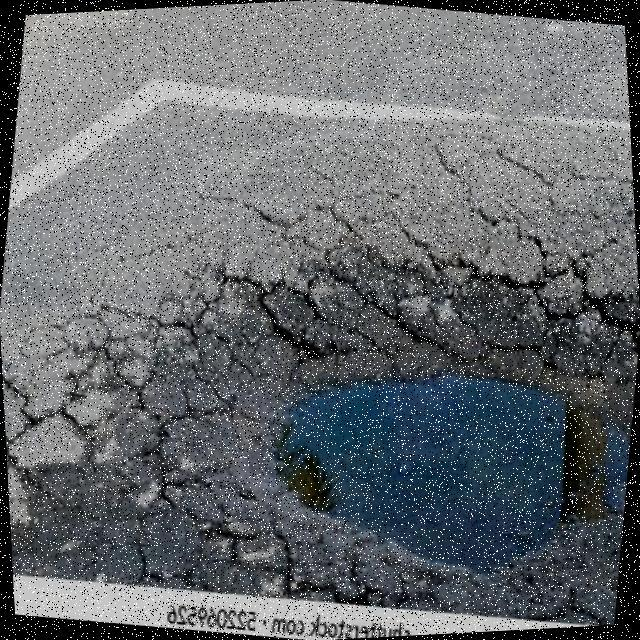Pothole: (18, 258, 640, 625)
